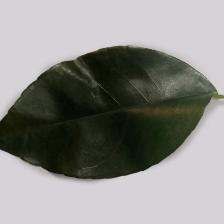healthy: (30, 64, 193, 181)
